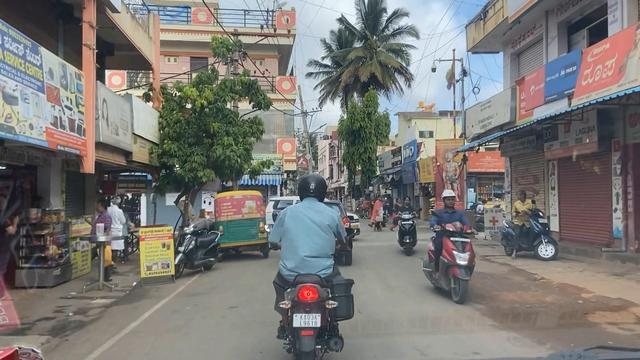LMV: (277, 173, 350, 354), (436, 190, 474, 294), (211, 190, 267, 254)
RoadDamages: (481, 273, 628, 351)
